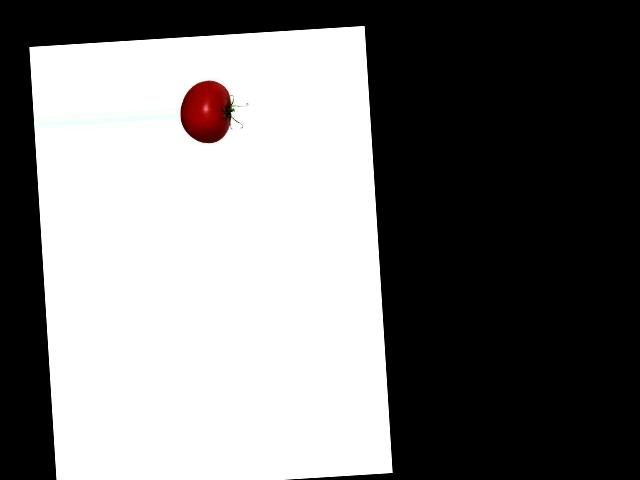tomato: (178, 78, 233, 144)
